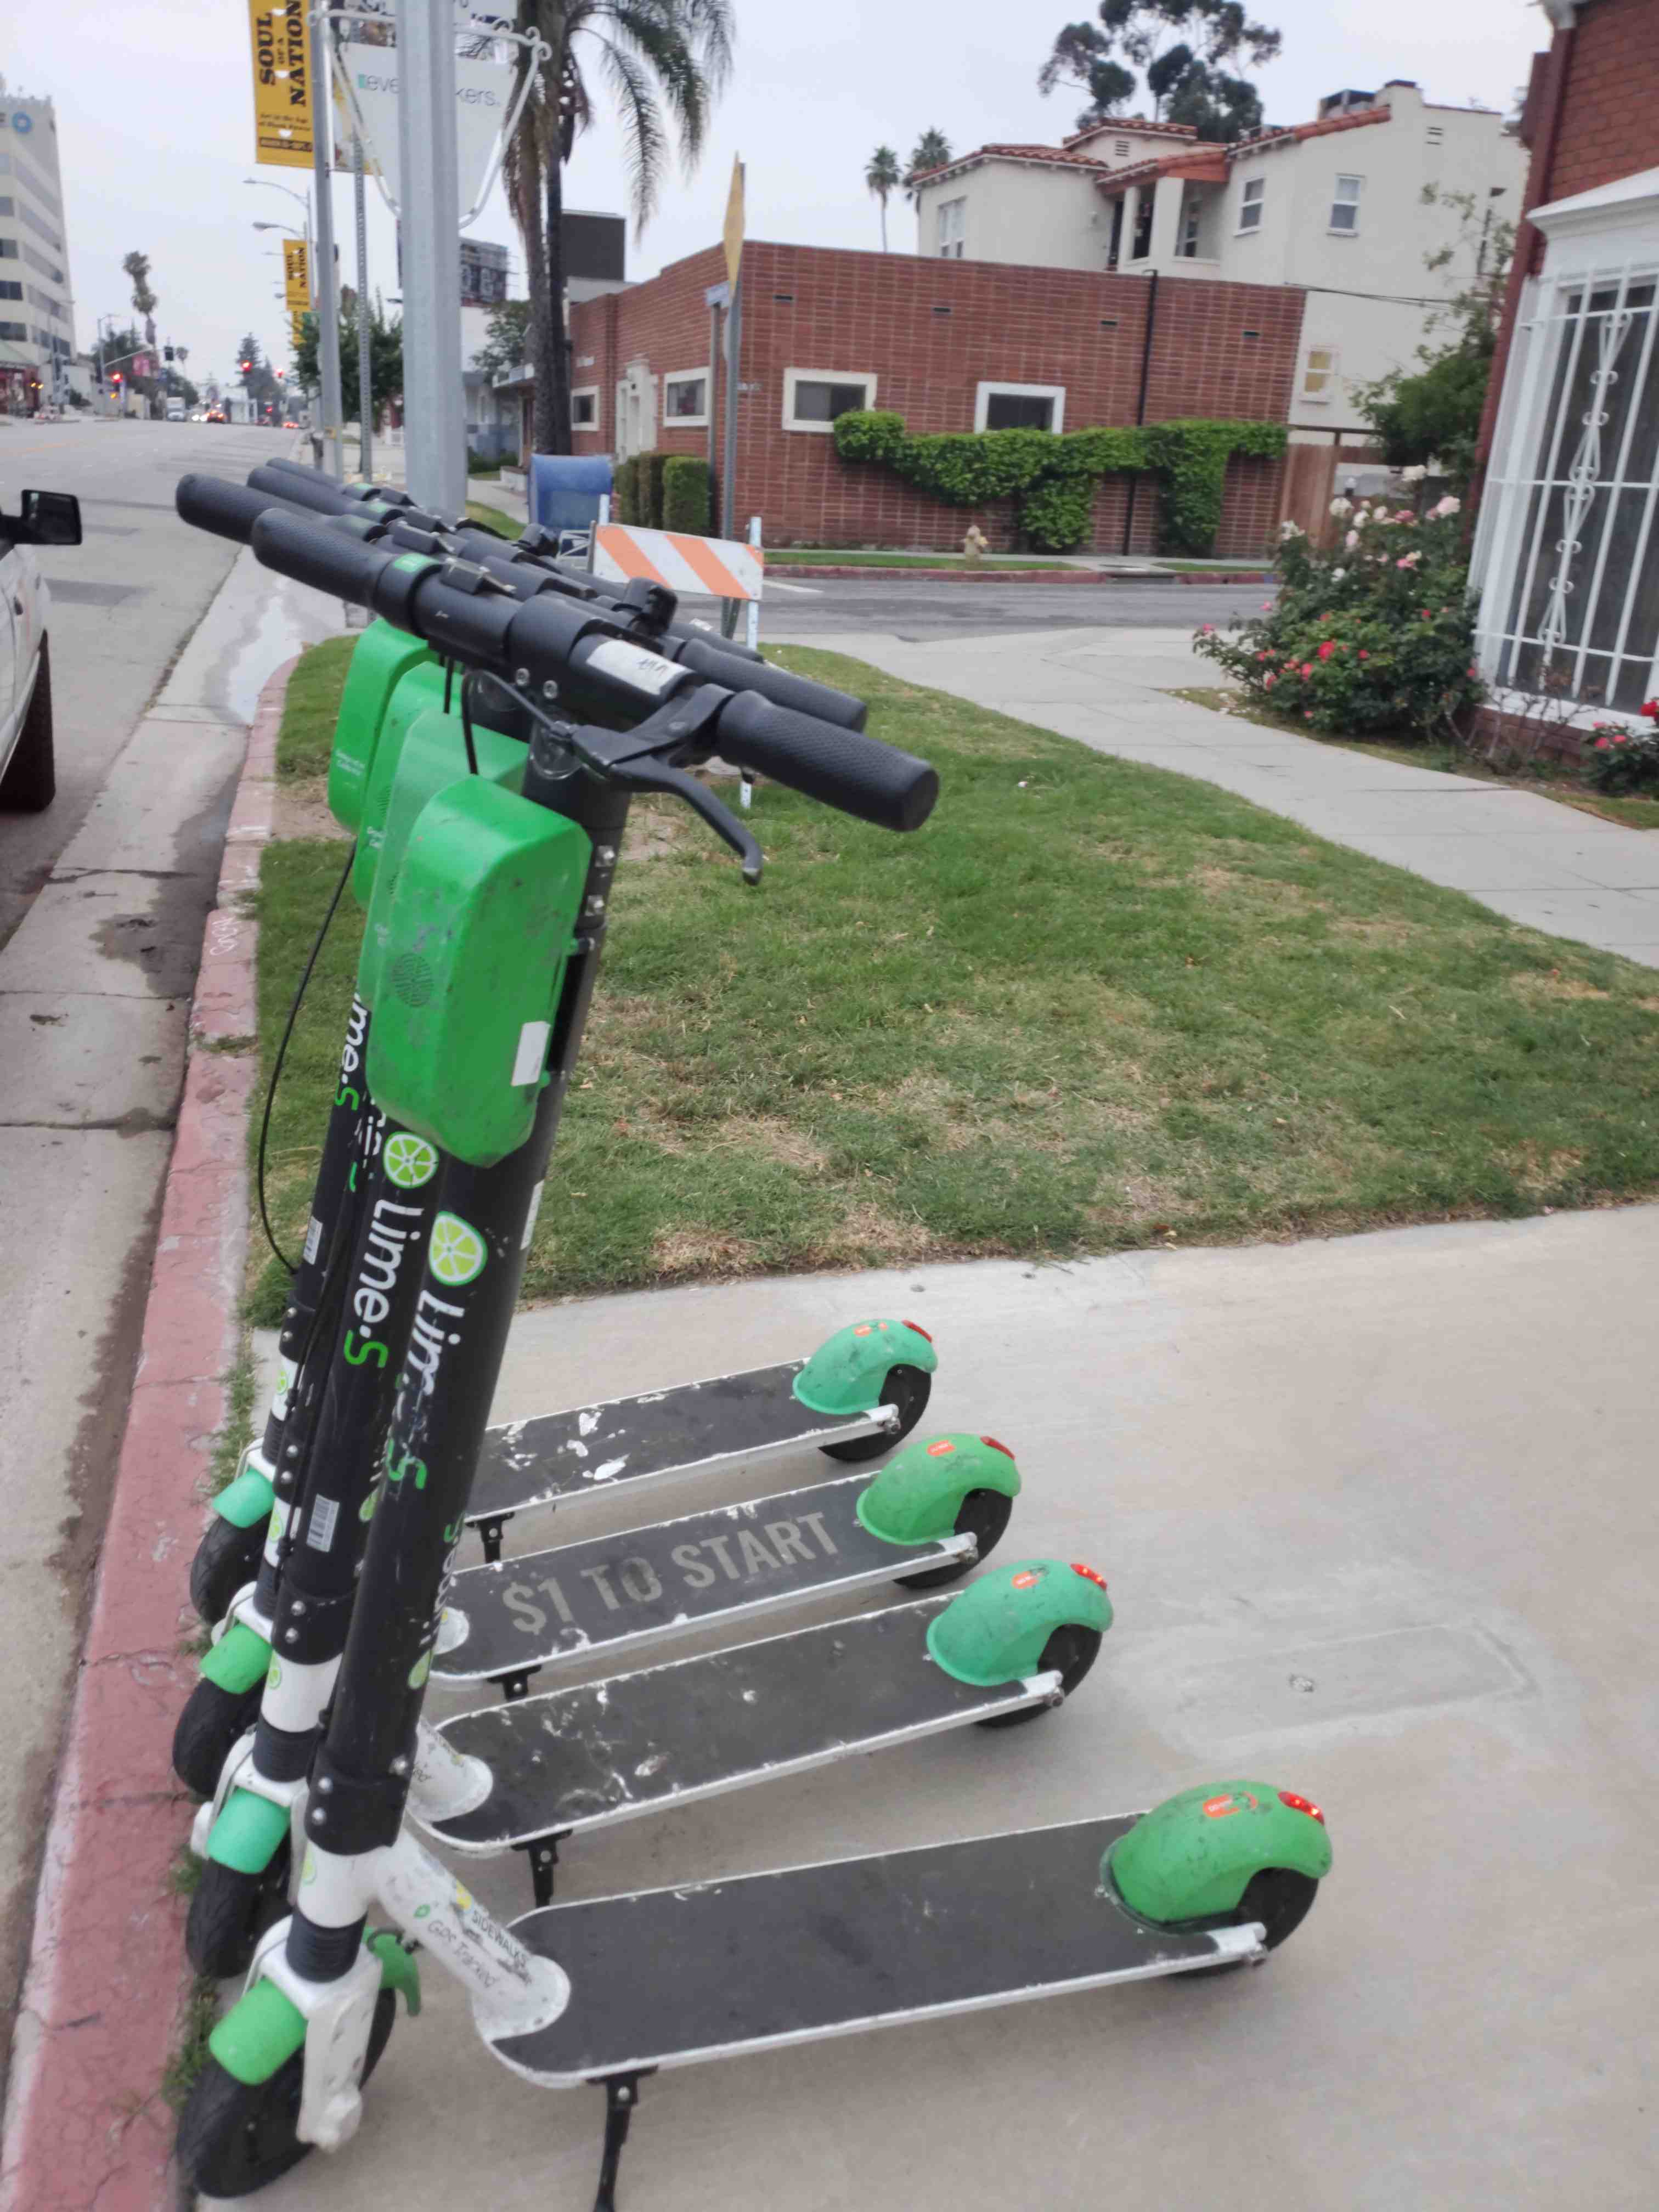too close: (12, 1709, 439, 1989), (19, 1952, 439, 2212)
